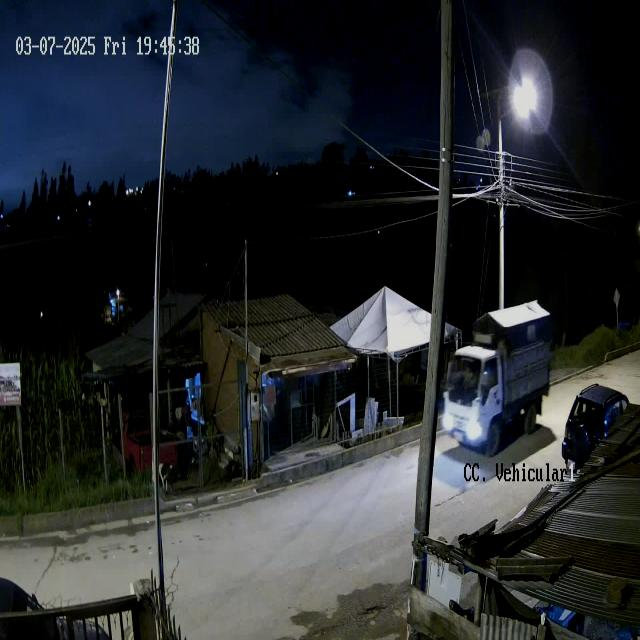TRUCK: (443, 298, 550, 454)
